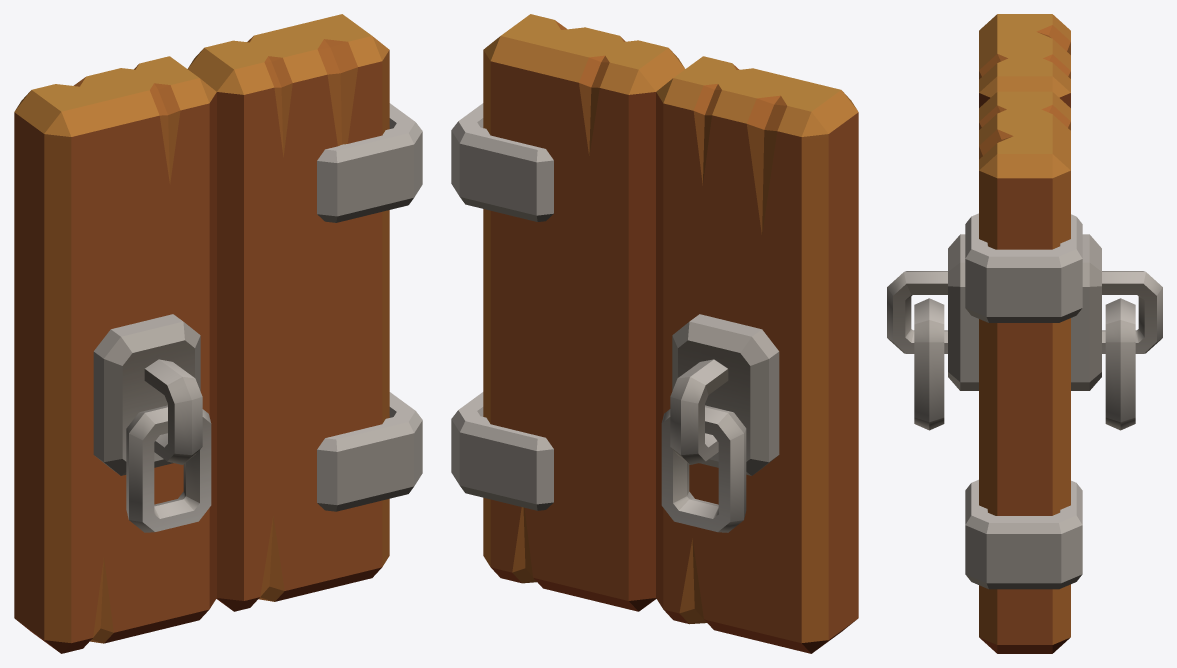
File: m_deco_doorWood_chain.FBX
3 renders of one model, left to right at view 1: azimuth 30°, elevation 25°; view 2: azimuth 150°, elevation 25°; view 3: azimuth 270°, elevation 25°, orthographic. The views are drawn at different scales.
Parts seen in each view (by area): view 1: m_deco_doorWood_chain; view 2: m_deco_doorWood_chain; view 3: m_deco_doorWood_chain.
Part boxes in pixels (x1,y1,x2,y2): m_deco_doorWood_chain: (14,14,422,653); m_deco_doorWood_chain: (451,14,858,653); m_deco_doorWood_chain: (887,14,1162,653).
Size of the model in its own units: 2.16 by 3 by 1.5.
